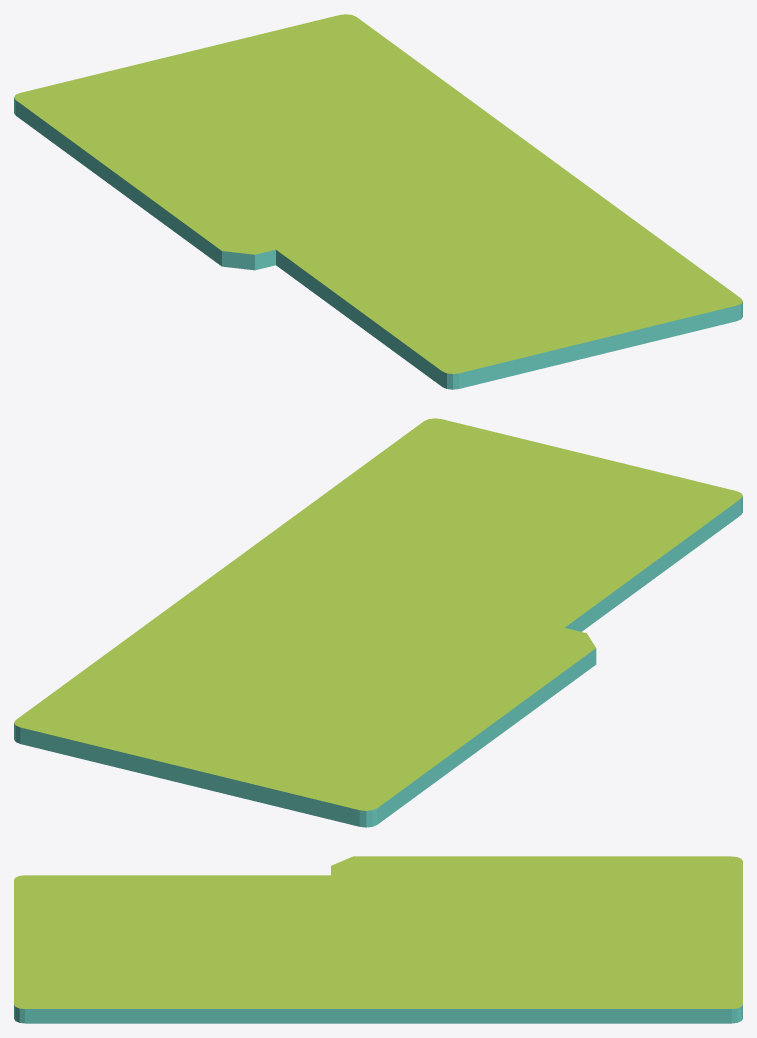
File: MotherBoard_Small.fbx
The picture shows the model from 3 angles, top to bottom: view 1: azimuth 30°, elevation 25°; view 2: azimuth 150°, elevation 25°; view 3: azimuth 270°, elevation 25°; orthographic projection. The views are drawn at different scales.
Parts seen in each view (by area): view 1: MotherBoard_Small; view 2: MotherBoard_Small; view 3: MotherBoard_Small.
Part boxes in pixels (bbox=[...]): MotherBoard_Small: bbox=[14, 14, 742, 389]; MotherBoard_Small: bbox=[14, 418, 742, 827]; MotherBoard_Small: bbox=[14, 856, 742, 1023].
Bounding box in the file's own units: 22.8 × 1 × 46.02.
